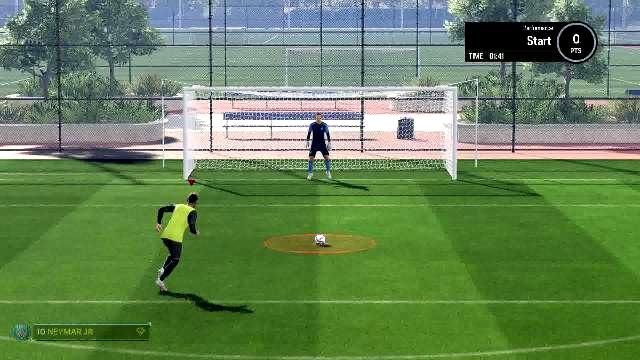bottom-left: (189, 138, 273, 180)
bottom-right: (362, 138, 451, 180)
center-down: (276, 137, 362, 179)
center-up: (277, 91, 365, 135)
circle: (262, 232, 376, 256)
football: (314, 234, 328, 246)
goalkeeper: (304, 112, 338, 180)
player: (154, 192, 206, 294)
top-left: (189, 92, 273, 136)
top-right: (361, 92, 449, 136)
